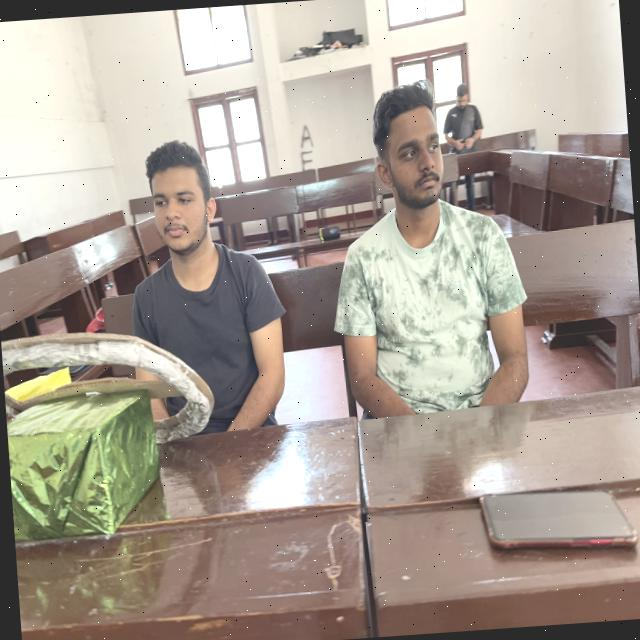no-seatbelt: (324, 210, 540, 439), (120, 247, 302, 462)
